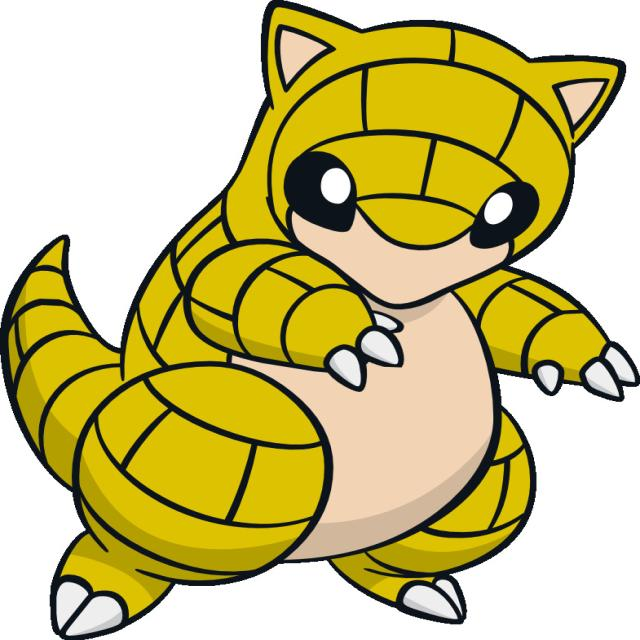Sandshrew: (0, 0, 638, 640)
